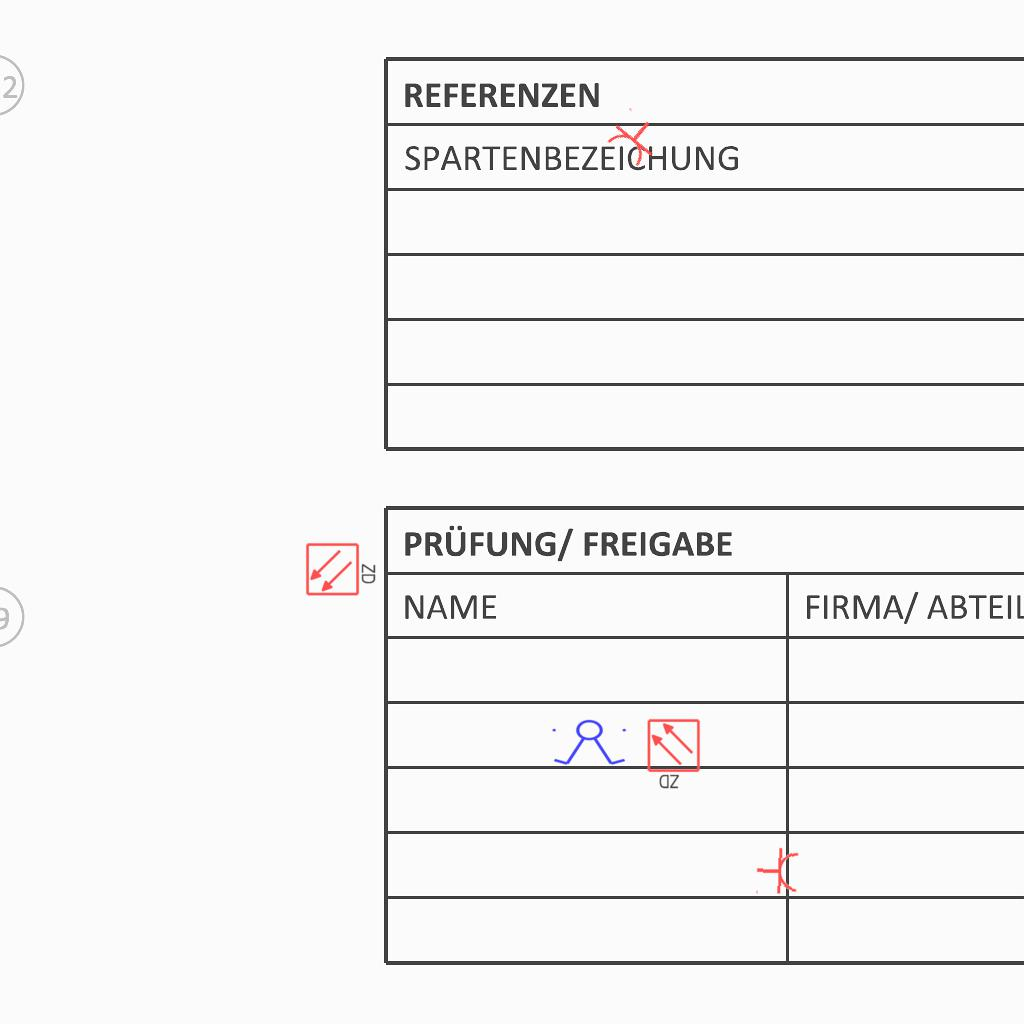Schukosteckdose_einfach: (601, 105, 668, 171), (755, 846, 800, 898)
Serienschalter: (548, 719, 632, 767)
ZD_Melder_in_Zwischendecke_mit_Revisionsoeffnung_mind_40_x_40_cm: (646, 718, 703, 792), (305, 540, 379, 597)
